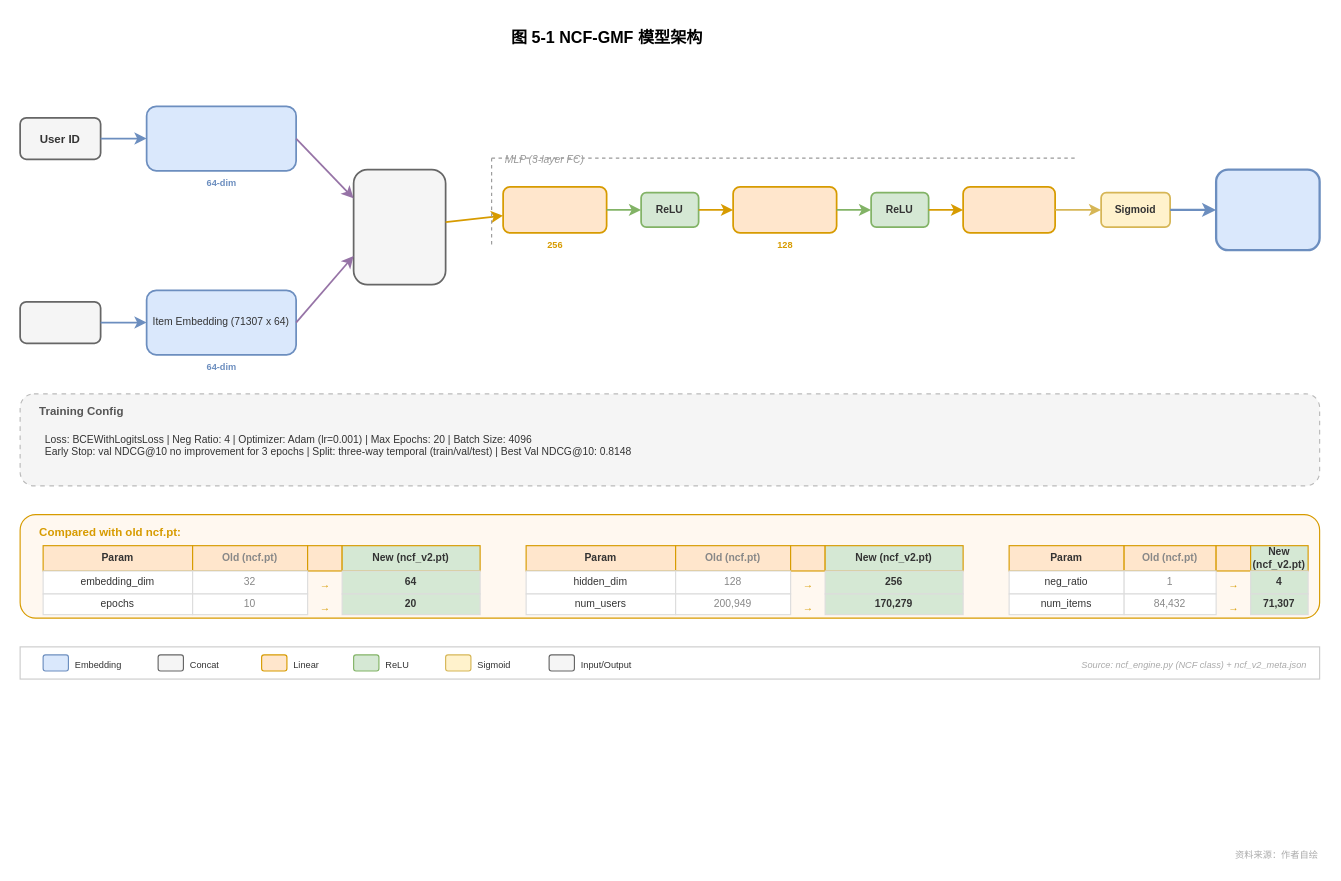
This 1341x881 diagram has some shape labels left out. Each missing label, with the centre of its shape:
"Concat (128)" belongs at (x=399, y=226).
"Item ID" belongs at (x=60, y=322).
"Linear(128,1)" belongs at (x=1008, y=209).
"Linear(128,256)" belongs at (x=554, y=209).
"Linear(256,128)" belongs at (x=784, y=209).
"User Embedding (170279 x 64)" belongs at (x=220, y=138).
"y_ui E [0, 1]" belongs at (x=1267, y=209).
